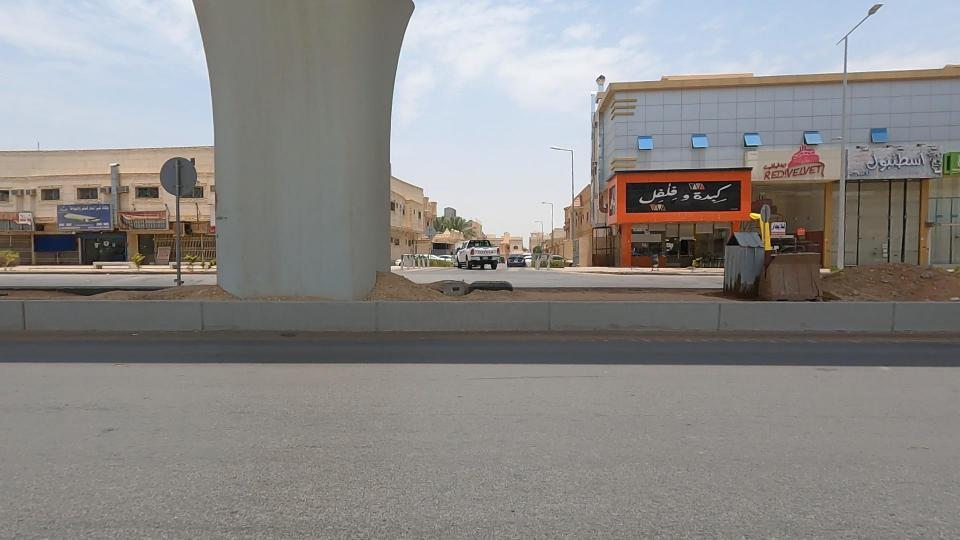GARBAGE: (406, 245, 552, 331)
SAND_ON_ROAD: (801, 229, 960, 334)
